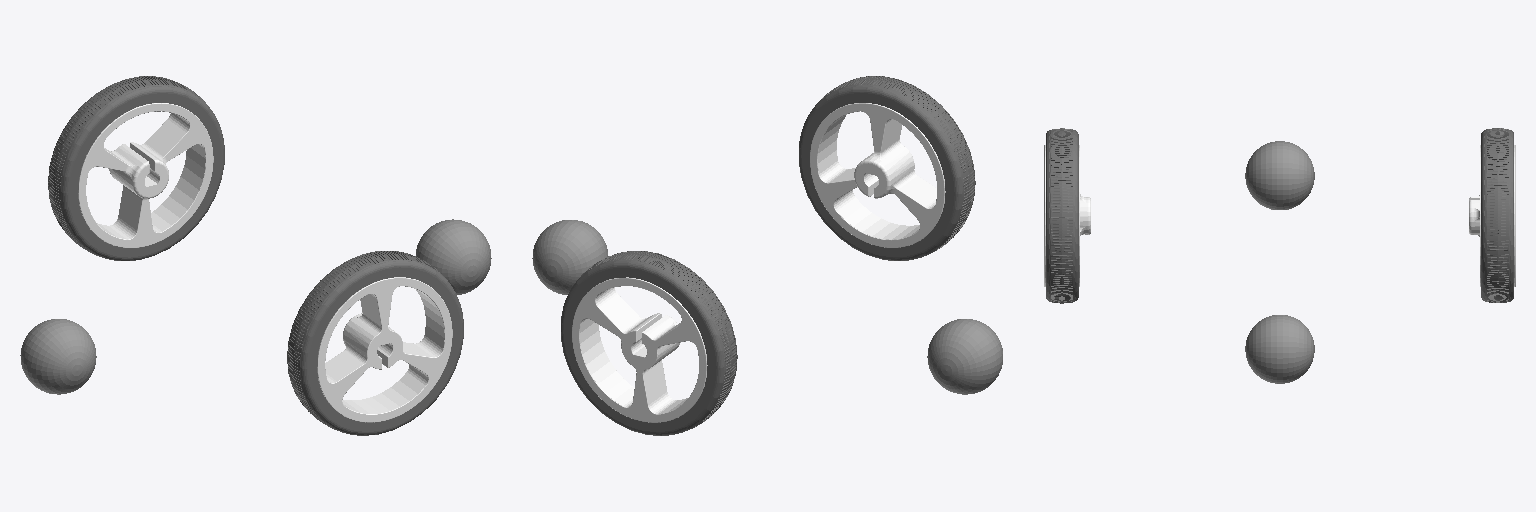
The robot description file, URDF, robot "qupa":
<?xml version="1.0" ?>
<!-- =================================================================================== -->
<!-- |    This document was autogenerated by xacro from .\outputs\mini_qupa_description\urdf\qupa.urdf.xacro | -->
<!-- |    EDITING THIS FILE BY HAND IS NOT RECOMMENDED                                 | -->
<!-- =================================================================================== -->
<robot name="qupa">
  <link name="base_footprint"/>
  <joint name="base_footprint_joint" type="fixed">
    <parent link="base_footprint"/>
    <child link="base_link"/>
    <origin rpy="0 0 0" xyz="0 0 0.016"/>
  </joint>
  <link name="base_link">
    <visual>
      <geometry>
        <mesh filename="package://mini_qupa_description/meshes/base_link.dae"/>
      </geometry>
    </visual>
    <!-- Envolventes simples del chasis, la tapa y el soporte superior. -->
    <collision name="lower_shell">
      <origin xyz="0 0 0.003"/>
      <geometry>
        <box size="0.086 0.068 0.026"/>
      </geometry>
    </collision>
    <collision name="main_shell">
      <origin xyz="0 0 0.05343"/>
      <geometry>
        <cylinder length="0.07486" radius="0.048248"/>
      </geometry>
    </collision>
    <collision name="top_cover">
      <origin xyz="0 0 0.1032273"/>
      <geometry>
        <cylinder length="0.0245546" radius="0.054205"/>
      </geometry>
    </collision>
    <collision name="mirror_mount">
      <origin xyz="0 0 0.1371715"/>
      <geometry>
        <cylinder length="0.024343" radius="0.0195"/>
      </geometry>
    </collision>
    <collision name="mirror_plate">
      <origin xyz="0 0 0.150343"/>
      <geometry>
        <box size="0.08 0.08 0.002"/>
      </geometry>
    </collision>
  </link>
  <link name="left_wheel_link">
    <visual>
      <geometry>
        <mesh filename="package://mini_qupa_description/meshes/left_wheel.dae"/>
      </geometry>
    </visual>
    <collision>
      <origin rpy="-1.5707963267948966 0 0" xyz="0 0 0"/>
      <geometry>
        <cylinder length="0.006" radius="0.016"/>
      </geometry>
    </collision>
  </link>
  <joint name="left_wheel_joint" type="continuous">
    <parent link="base_link"/>
    <child link="left_wheel_link"/>
    <origin rpy="0 0 0" xyz="-5e-05 0.03975 0"/>
    <axis xyz="0 1 0"/>
  </joint>
  <link name="right_wheel_link">
    <visual>
      <geometry>
        <mesh filename="package://mini_qupa_description/meshes/right_wheel.dae"/>
      </geometry>
    </visual>
    <collision>
      <origin rpy="-1.5707963267948966 0 0" xyz="0 0 0"/>
      <geometry>
        <cylinder length="0.006" radius="0.016"/>
      </geometry>
    </collision>
  </link>
  <joint name="right_wheel_joint" type="continuous">
    <parent link="base_link"/>
    <child link="right_wheel_link"/>
    <origin rpy="0 0 0" xyz="5e-05 -0.03975 0"/>
    <axis xyz="0 1 0"/>
  </joint>
  <link name="front_ball_link">
    <visual>
      <geometry>
        <mesh filename="package://mini_qupa_description/meshes/front_ball.dae"/>
      </geometry>
    </visual>
    <collision>
      <geometry>
        <sphere radius="0.00635"/>
      </geometry>
    </collision>
  </link>
  <joint name="front_ball_joint" type="fixed">
    <parent link="base_link"/>
    <child link="front_ball_link"/>
    <origin rpy="0 0 0" xyz="0.03799743 0.000006 -0.00915"/>
  </joint>
  <link name="rear_ball_link">
    <visual>
      <geometry>
        <mesh filename="package://mini_qupa_description/meshes/rear_ball.dae"/>
      </geometry>
    </visual>
    <collision>
      <geometry>
        <sphere radius="0.00635"/>
      </geometry>
    </collision>
  </link>
  <joint name="rear_ball_joint" type="fixed">
    <parent link="base_link"/>
    <child link="rear_ball_link"/>
    <origin rpy="0 0 0" xyz="-0.03800064 0.0000082 -0.00965"/>
  </joint>
  <link name="left_motor_link"/>
  <joint name="left_motor_link_joint" type="fixed">
    <parent link="base_link"/>
    <child link="left_motor_link"/>
    <origin rpy="0 0 0" xyz="-5e-05 0.0242 0"/>
  </joint>
  <link name="right_motor_link"/>
  <joint name="right_motor_link_joint" type="fixed">
    <parent link="base_link"/>
    <child link="right_motor_link"/>
    <origin rpy="0 0 0" xyz="5e-05 -0.0242 0"/>
  </joint>
  <link name="floor_sensor_link"/>
  <joint name="floor_sensor_link_joint" type="fixed">
    <parent link="base_link"/>
    <child link="floor_sensor_link"/>
    <origin rpy="0 1.570796327 0" xyz="0.01092460143 -0.0003970758108 -0.010406"/>
  </joint>
  <link name="ir_rear_left_link"/>
  <joint name="ir_rear_left_link_joint" type="fixed">
    <parent link="base_link"/>
    <child link="ir_rear_left_link"/>
    <origin rpy="0 0 2.617993878" xyz="-0.0374567559 0.02107990073 0.05445"/>
  </joint>
  <link name="ir_front_left_link"/>
  <joint name="ir_front_left_link_joint" type="fixed">
    <parent link="base_link"/>
    <child link="ir_front_left_link"/>
    <origin rpy="0 0 0.2617993878" xyz="0.04107574727 0.01153742044 0.05525"/>
  </joint>
  <link name="ir_front_right_link"/>
  <joint name="ir_front_right_link_joint" type="fixed">
    <parent link="base_link"/>
    <child link="ir_front_right_link"/>
    <origin rpy="0 0 -0.2617993878" xyz="0.04115265966 -0.01189594343 0.05553289742"/>
  </joint>
  <link name="ir_left_front_link"/>
  <joint name="ir_left_front_link_joint" type="fixed">
    <parent link="base_link"/>
    <child link="ir_left_front_link"/>
    <origin rpy="0 0 0.872664626" xyz="0.027237002 0.03312485862 0.05525"/>
  </joint>
  <link name="ir_left_link"/>
  <joint name="ir_left_link_joint" type="fixed">
    <parent link="base_link"/>
    <child link="ir_left_link"/>
    <origin rpy="0 0 1.570796327" xyz="-0.0008213490816 0.04262106817 0.05525"/>
  </joint>
  <link name="ir_right_front_link"/>
  <joint name="ir_right_front_link_joint" type="fixed">
    <parent link="base_link"/>
    <child link="ir_right_front_link"/>
    <origin rpy="0 0 -0.872664626" xyz="0.02705507349 -0.03295981878 0.05485"/>
  </joint>
  <link name="ir_right_link"/>
  <joint name="ir_right_link_joint" type="fixed">
    <parent link="base_link"/>
    <child link="ir_right_link"/>
    <origin rpy="0 0 -1.570796327" xyz="-0.0005728950696 -0.04250434481 0.05535"/>
  </joint>
  <link name="ir_rear_right_link"/>
  <joint name="ir_rear_right_link_joint" type="fixed">
    <parent link="base_link"/>
    <child link="ir_rear_right_link"/>
    <origin rpy="0 0 -2.617993878" xyz="-0.03732819573 -0.02056383275 0.05535"/>
  </joint>
  <link name="camera_link"/>
  <joint name="camera_link_joint" type="fixed">
    <parent link="base_link"/>
    <child link="camera_link"/>
    <origin rpy="0 -1.570796327 0" xyz="-0.0002019595362 -0.0001510575015 0.1092308703"/>
  </joint>
  <link name="camera_optical_frame"/>
  <joint name="camera_optical_frame_joint" type="fixed">
    <parent link="camera_link"/>
    <child link="camera_optical_frame"/>
    <origin rpy="-1.5707963267948966 0 -1.5707963267948966" xyz="0 0 0"/>
  </joint>
  <link name="mirror_link"/>
  <joint name="mirror_link_joint" type="fixed">
    <parent link="base_link"/>
    <child link="mirror_link"/>
    <origin rpy="0 0 0" xyz="0 0 0.126"/>
  </joint>
  <link name="top_plate_link"/>
  <joint name="top_plate_link_joint" type="fixed">
    <parent link="base_link"/>
    <child link="top_plate_link"/>
    <origin rpy="0 0 0" xyz="0 0 0.1513434744"/>
  </joint>
  <link name="diffuser_link"/>
  <joint name="diffuser_link_joint" type="fixed">
    <parent link="base_link"/>
    <child link="diffuser_link"/>
    <origin rpy="0 0 0" xyz="0 0 0.09085"/>
  </joint>
</robot>

--- What the picture shows (computed from the rendered views, not written in the file) ---
The picture shows the robot from 3 angles, left to right: view 1: azimuth 30°, elevation 25°; view 2: azimuth 150°, elevation 25°; view 3: azimuth 270°, elevation 25°; orthographic projection.
Robot: qupa — 22 links, 21 joints (2 continuous, 19 fixed); root link base_footprint; default pose: every joint at zero.
Links seen in each view (by area): view 1: left_wheel_link, right_wheel_link, rear_ball_link, front_ball_link; view 2: right_wheel_link, left_wheel_link, rear_ball_link, front_ball_link; view 3: left_wheel_link, right_wheel_link, rear_ball_link, front_ball_link.
Link boxes in pixels (left/top/right/bottom): left_wheel_link: left=48, top=76, right=224, bottom=260; right_wheel_link: left=287, top=251, right=463, bottom=435; rear_ball_link: left=20, top=319, right=96, bottom=394; front_ball_link: left=416, top=219, right=491, bottom=294; right_wheel_link: left=799, top=76, right=975, bottom=260; left_wheel_link: left=561, top=251, right=737, bottom=435; rear_ball_link: left=927, top=319, right=1002, bottom=394; front_ball_link: left=532, top=220, right=608, bottom=294; left_wheel_link: left=1469, top=128, right=1515, bottom=302; right_wheel_link: left=1044, top=128, right=1090, bottom=303; rear_ball_link: left=1245, top=141, right=1314, bottom=209; front_ball_link: left=1245, top=315, right=1314, bottom=383.
Size in the robot's own frame: 0.0887 by 0.086 by 0.032 metres.
Meshes: 5 distinct files referenced, 4 mesh visuals loaded (4 Collada DAE); not drawn: 1 (reference not matched to a file when rendering).
